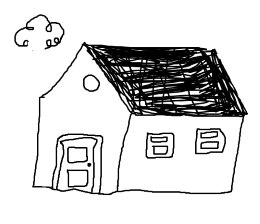closed_window: (189, 124, 233, 159), (143, 128, 181, 161)
clouds: (9, 9, 69, 53)
door: (49, 128, 110, 199)
shaded_roof: (34, 26, 250, 121)
wall: (112, 110, 251, 197)
